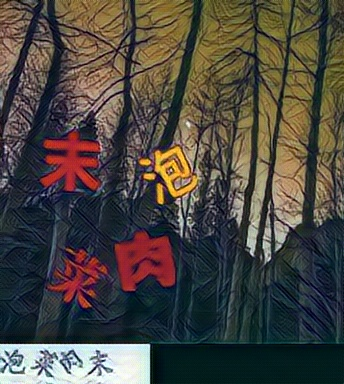B2CB: (43, 245, 108, 309)
C4A9: (36, 130, 101, 194)
C5DD: (137, 144, 202, 208)
C8E2: (112, 228, 177, 292)
